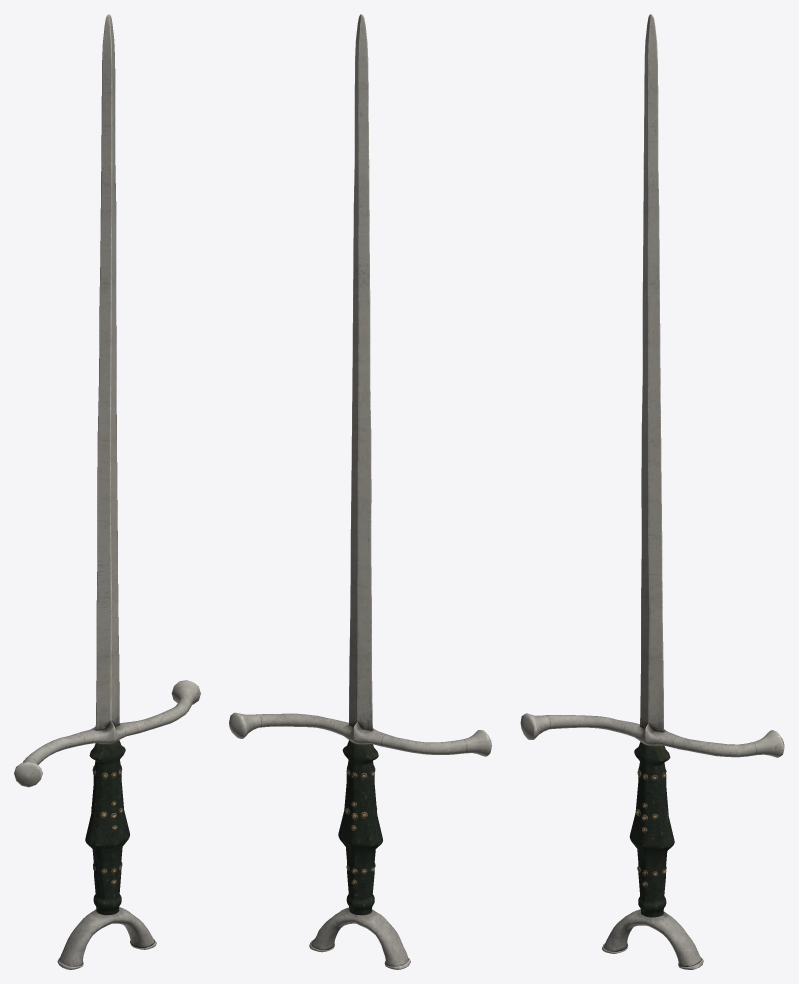
Rendered from antique_estoc.glb.
The picture shows the model from 3 angles, left to right: view 1: azimuth 30°, elevation 25°; view 2: azimuth 150°, elevation 25°; view 3: azimuth 330°, elevation 25°; orthographic projection.
Parts seen in each view (by area): view 1: antique_estoc; view 2: antique_estoc; view 3: antique_estoc.
Boxes of the visible parts, <box> form: antique_estoc: <box>14,14,200,969</box>; antique_estoc: <box>229,14,491,969</box>; antique_estoc: <box>520,14,784,969</box>.
Size of the model in its own units: 0.3715 by 1.49 by 0.149.
1 material, 1 textured.
